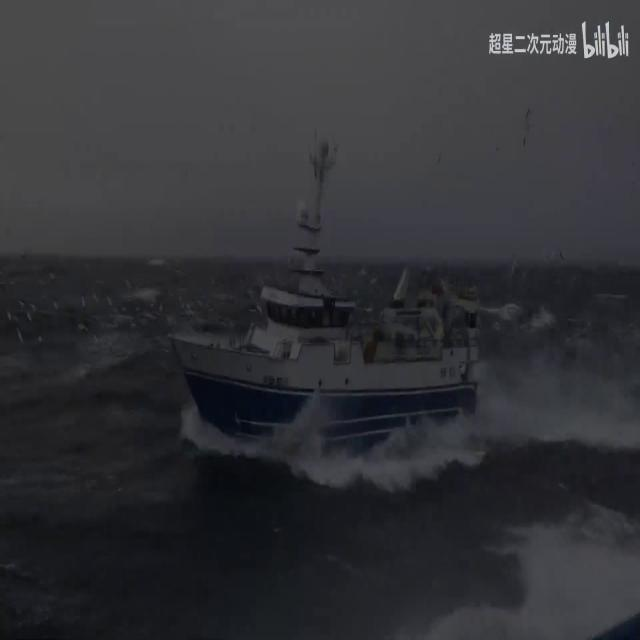houseboat: (173, 140, 473, 432)
